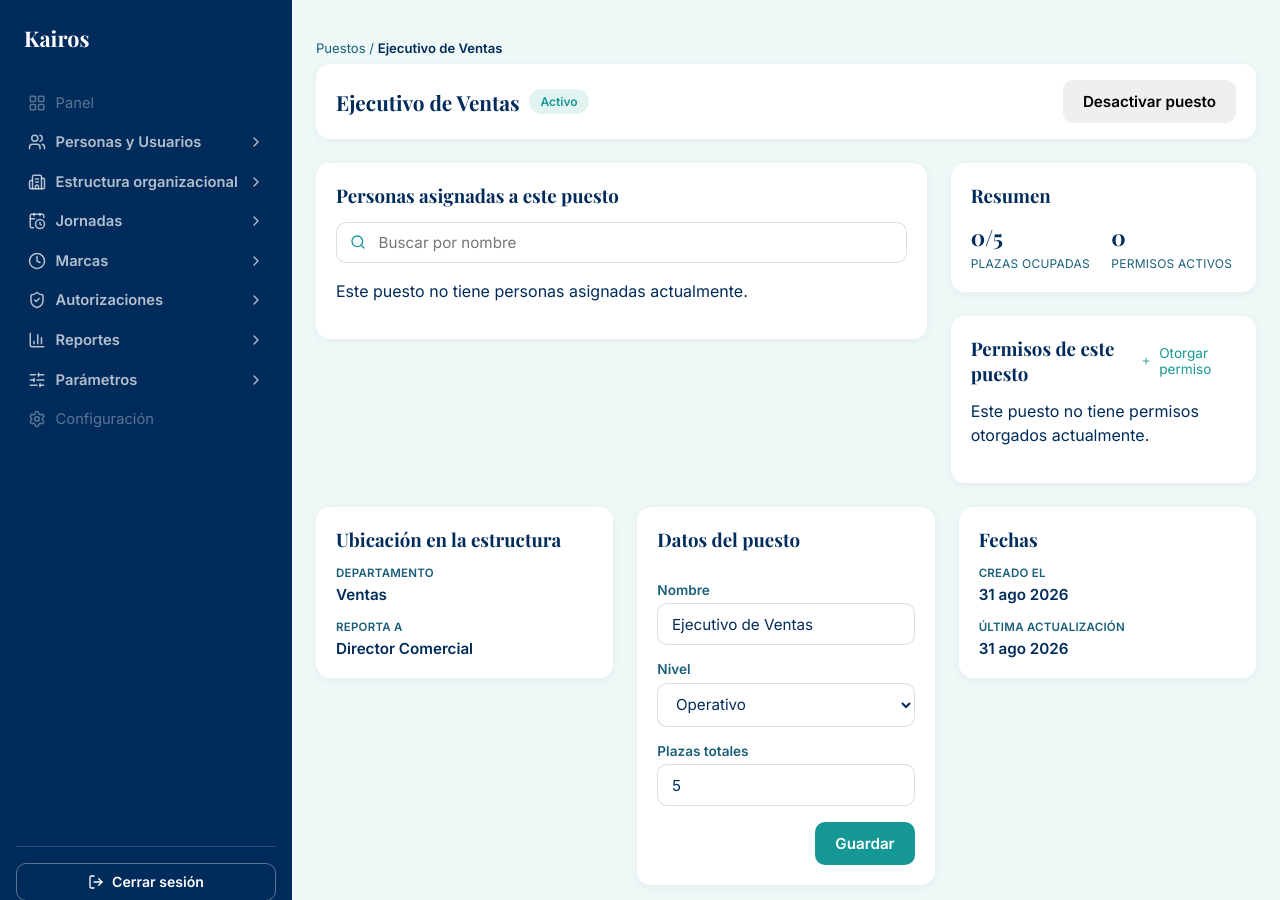
Scenario: FichaPuestoPage › renombra/cambia nivel y plazas vía PATCH /api/puestos/:id
This screenshot has width=1280, height=900.
Expected: the text "Ejecutivo de Ventas" next to "Puestos" is shown, [378,40,503,56]
Step 1. Replace the text in the field labelled "Nombre" with "Gerente de Ventas" → (786, 624), box [657,603,915,645]
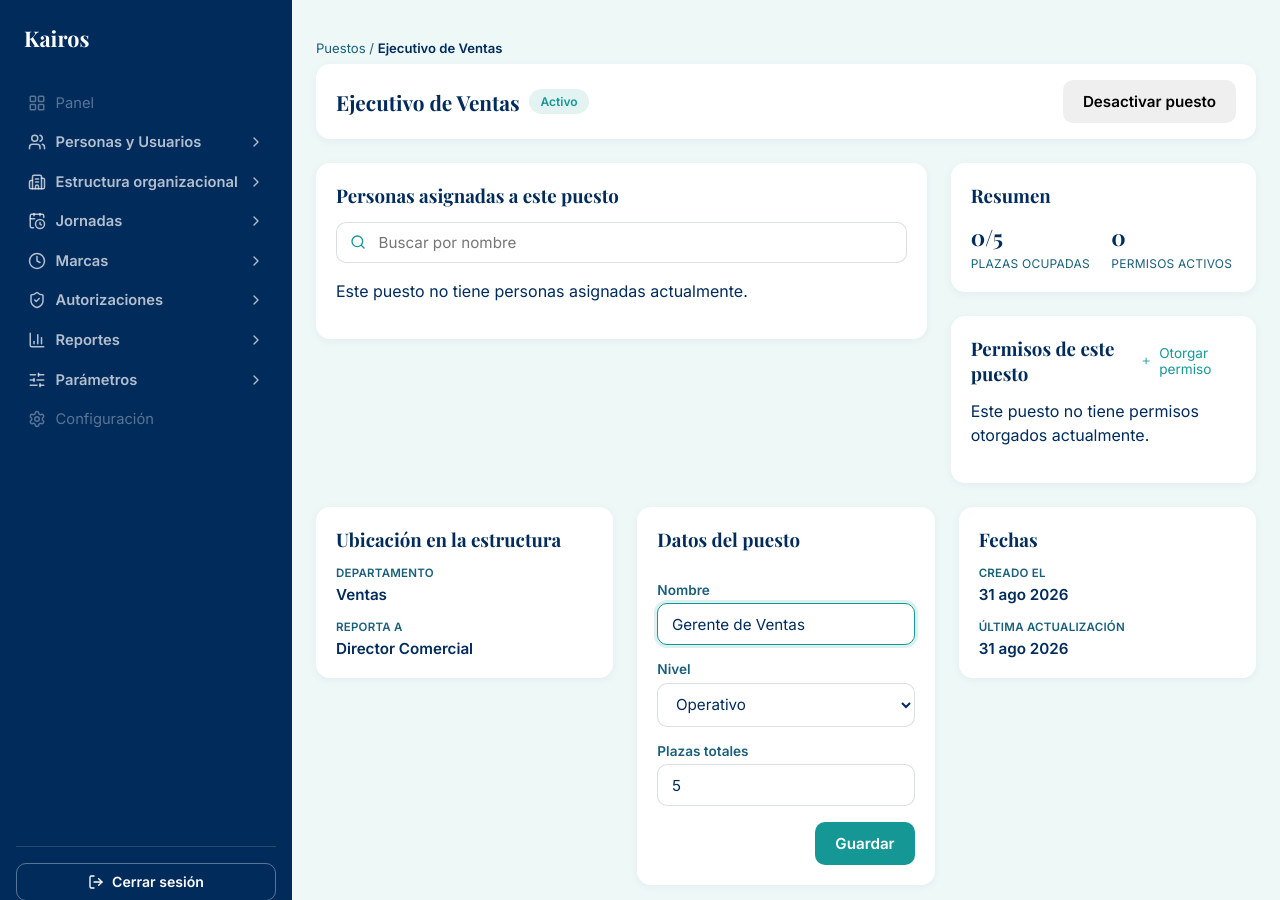
Step 2. Select "Gerencia" in the dropdown labelled "Nivel" → (786, 705), box [657,683,915,727]
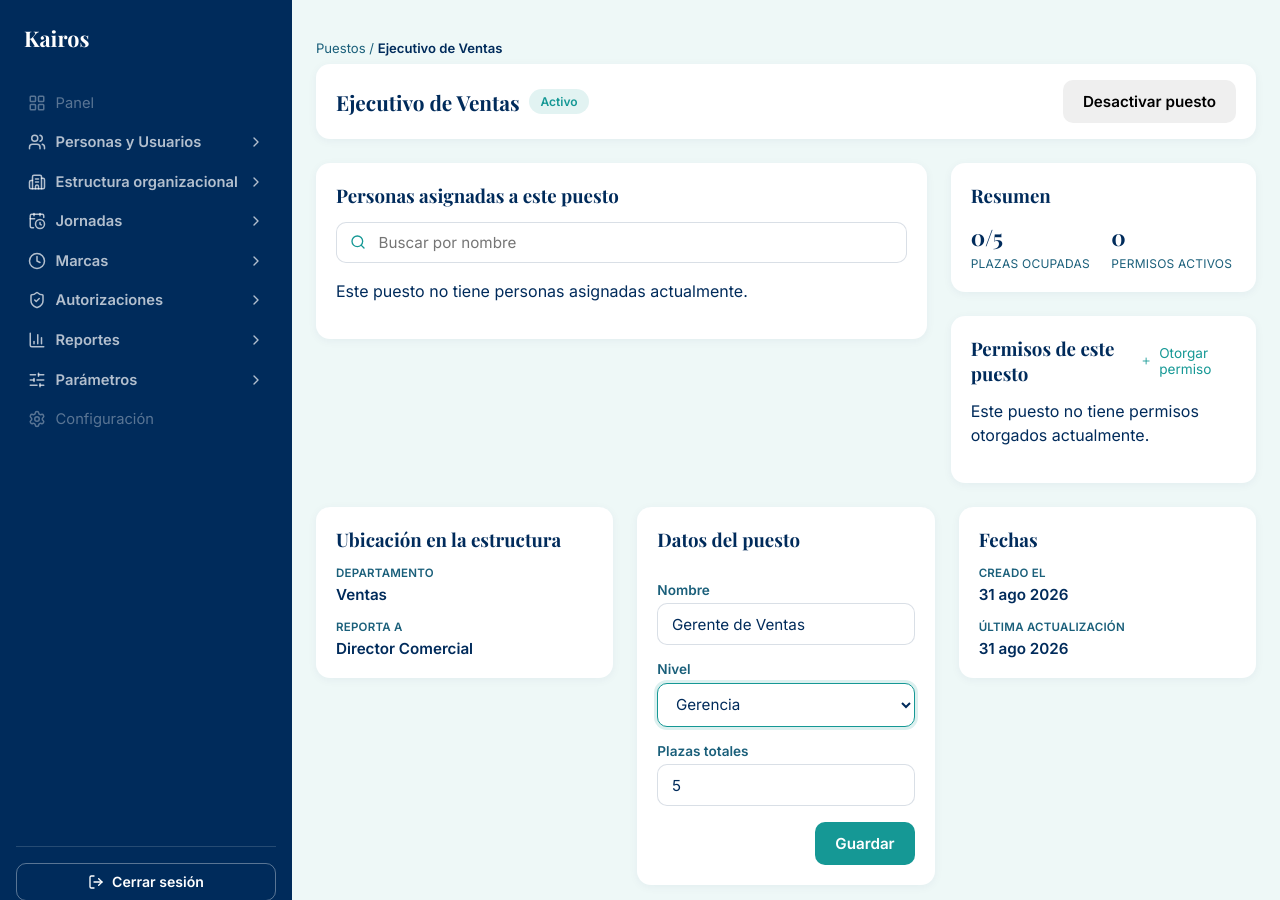
Step 3. Replace the text in the number field labelled "Plazas totales" with "1" → (786, 785), box [657,764,915,806]
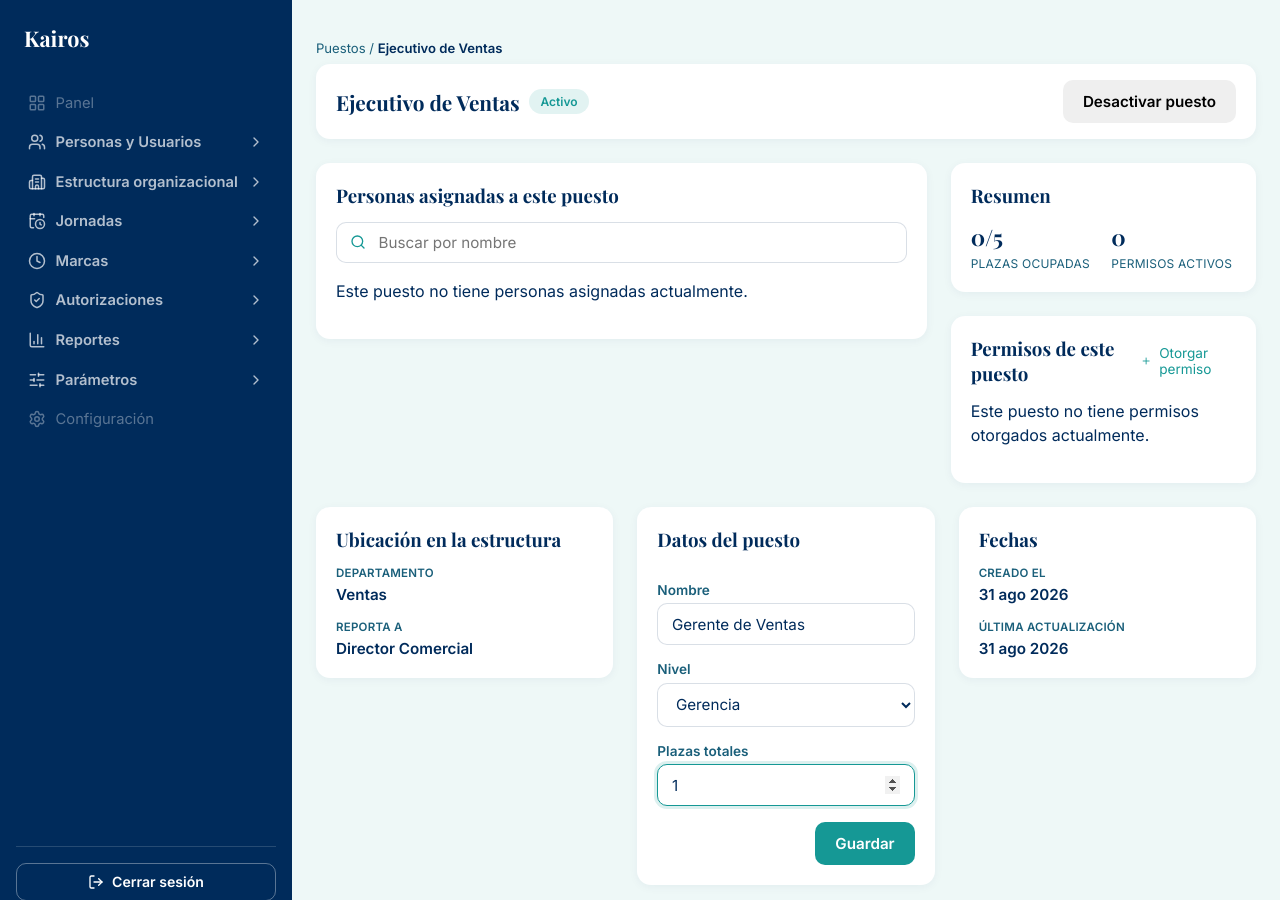
Step 4. Click the button "Guardar" → (865, 843), box [815,822,915,865]
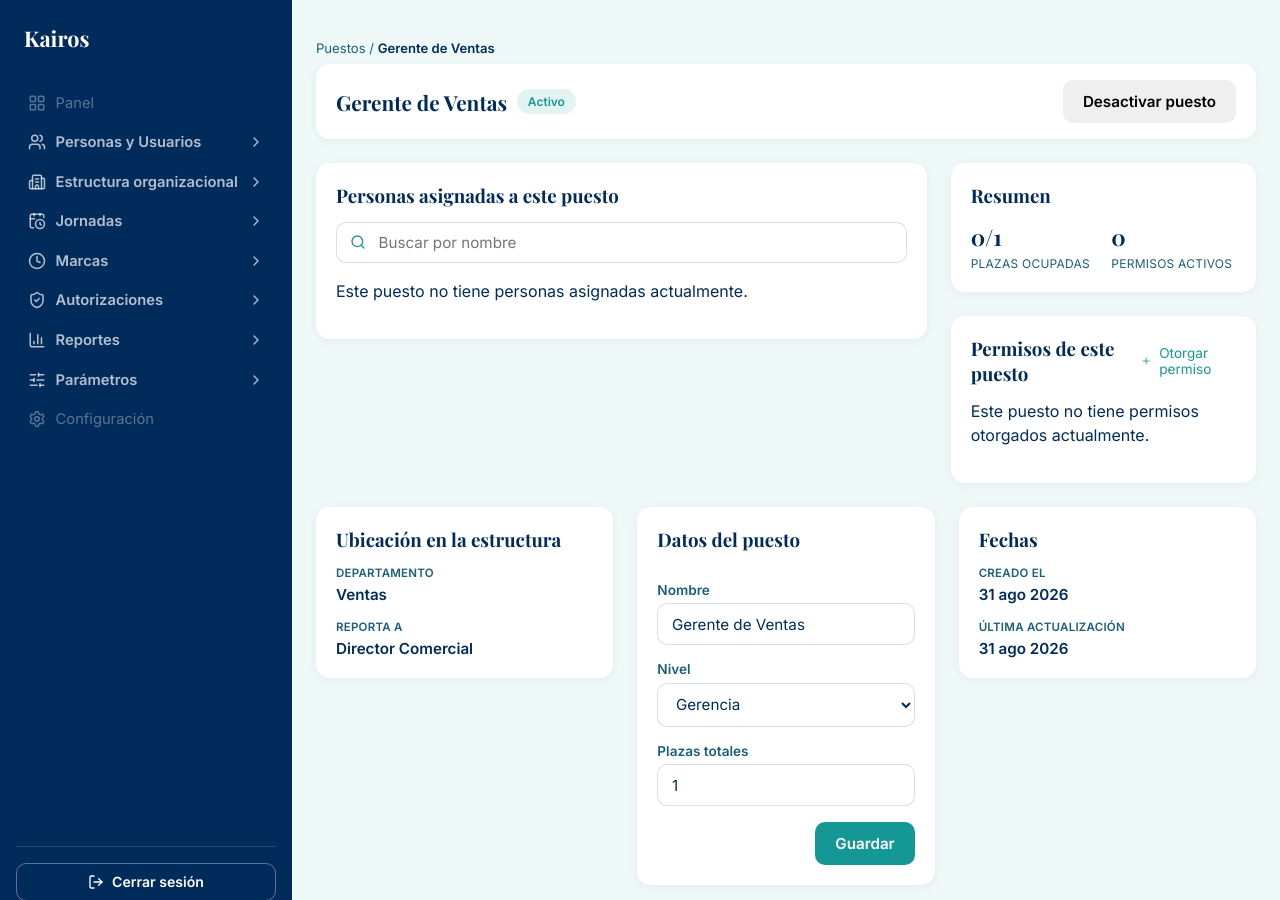
Expected: the text "Gerente de Ventas" next to "Puestos" is shown, [378,40,495,56]
